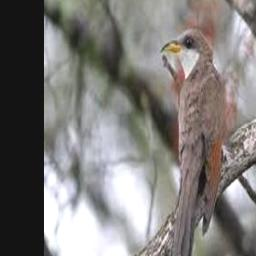Cuckoo: (160, 28, 225, 256)
